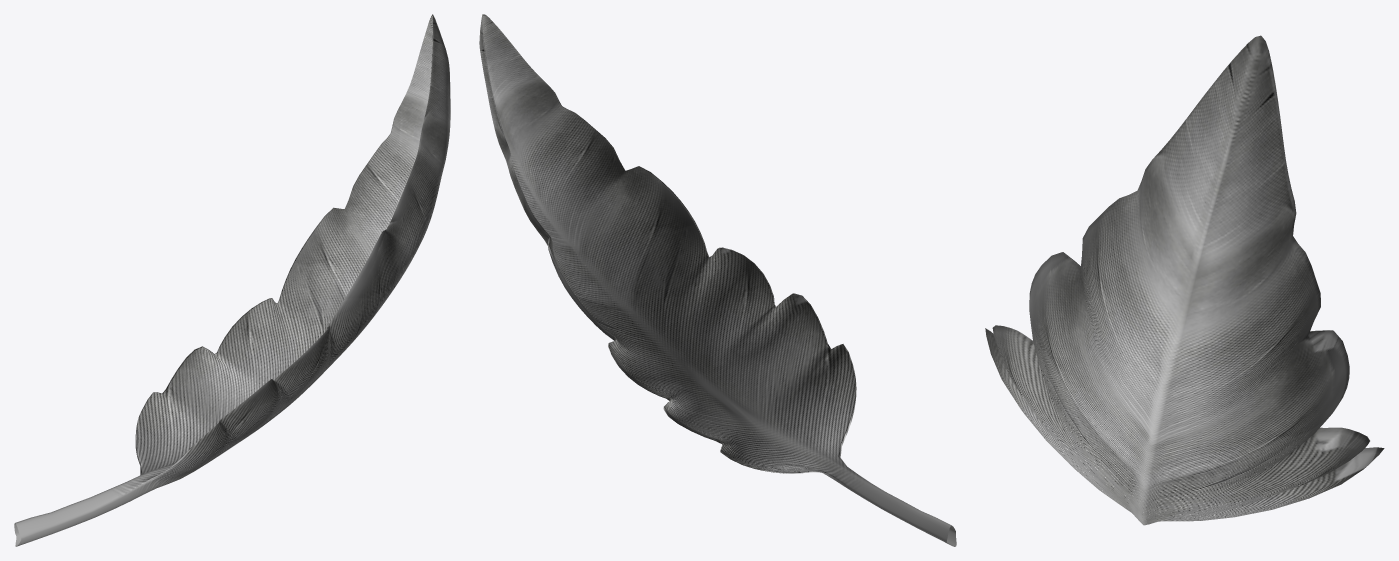
Rendered from feather.obj.
The picture shows the model from 3 angles, left to right: view 1: azimuth 30°, elevation 25°; view 2: azimuth 150°, elevation 25°; view 3: azimuth 270°, elevation 25°; orthographic projection. The views are drawn at different scales.
Parts seen in each view (by area): view 1: dynamic; view 2: dynamic; view 3: dynamic.
Boxes of the visible parts, bbox=[...] form: dynamic: bbox=[14, 14, 450, 546]; dynamic: bbox=[479, 14, 956, 546]; dynamic: bbox=[985, 35, 1384, 525].
Size of the model in its own units: 36.14 by 32.31 by 14.11.
Materials: 1 (1 with a texture image).
